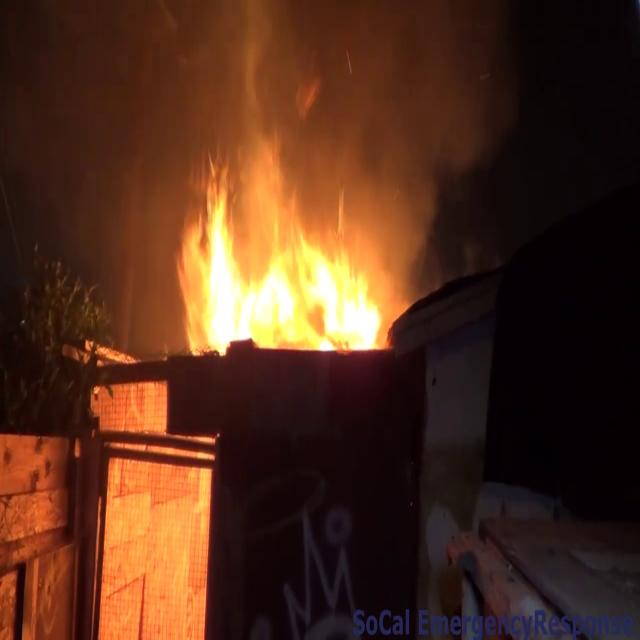Fire: (178, 167, 395, 357)
Smoke: (52, 1, 516, 268)
